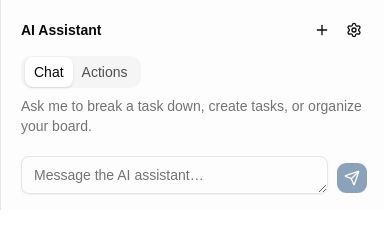
Test: AIChatSidebar › shows logged actions in the Actions tab with a working revert button
Click the tab "Actions". click: (105, 72)
box: [73,57,136,87]
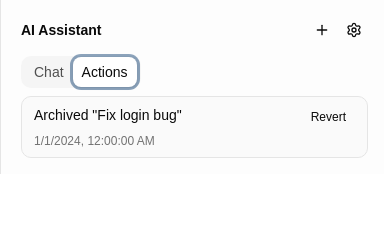
Expected: the text "Archived \"Fix login bug\"" is shown, [34,105,182,125]
Click the button "Revert". click: (328, 117)
box: [302,105,355,129]
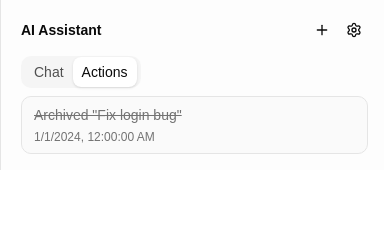
Expected: the button "Revert" is gone
